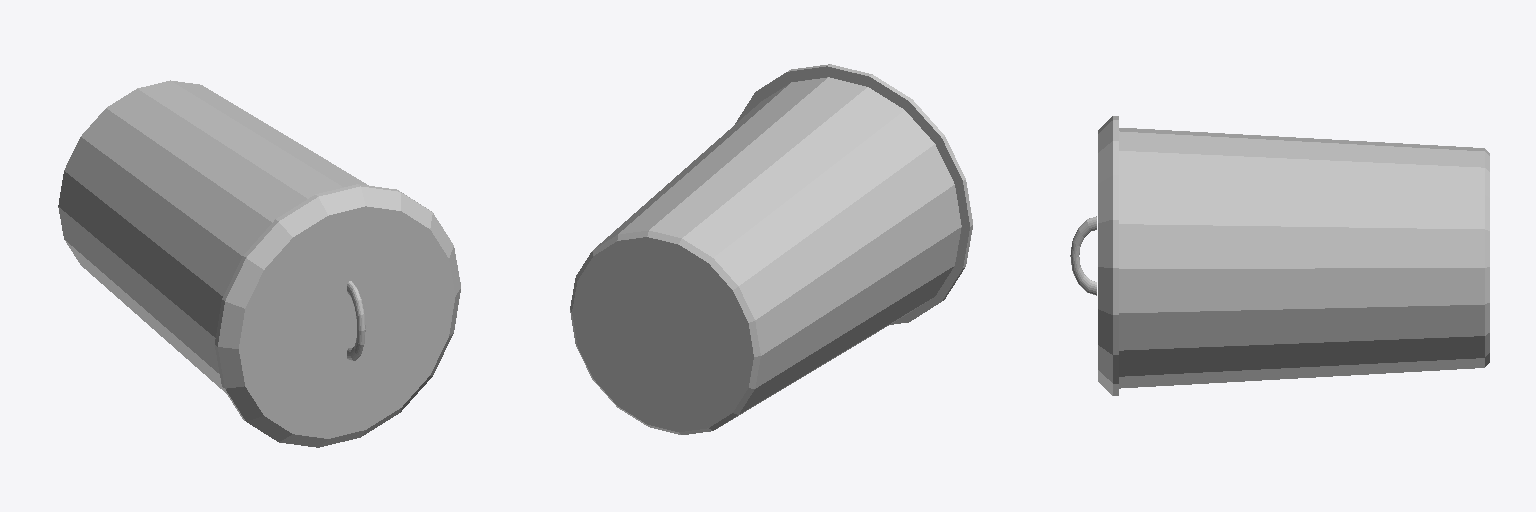
The model's file is Trashcan.obj.
3 views of the same model, side by side, from view 1: azimuth 30°, elevation 25°; view 2: azimuth 150°, elevation 25°; view 3: azimuth 270°, elevation 25° (orthographic).
Parts seen in each view (by area): view 1: Trash; view 2: Trash; view 3: Trash.
Boxes of the visible parts, box(x1,y1,x2,y2) form: Trash: box(58, 80, 460, 447); Trash: box(570, 64, 972, 434); Trash: box(1070, 116, 1489, 395).
Bounding box in the file's own units: 22.39 × 22.05 × 33.36.